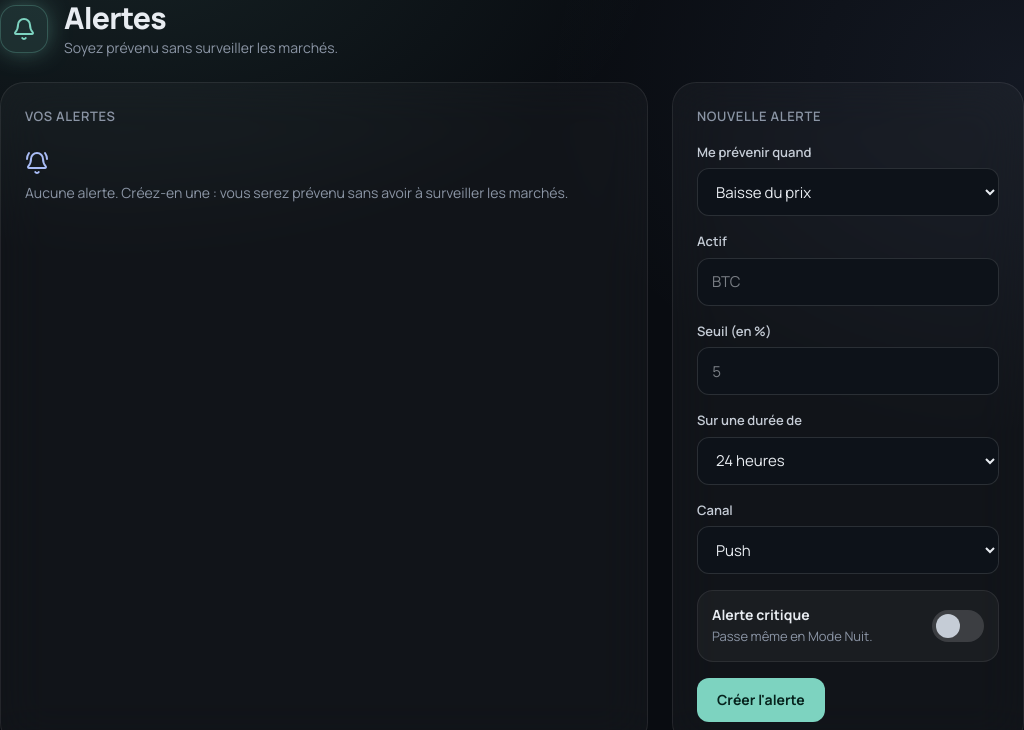
AlertForm : création › champs vides : messages, aucun appel
Expected: the heading "Vos alertes" is shown, [25,107,116,125]
Click the button "Créer l'alerte" at (761, 700), box [697,678,825,722]
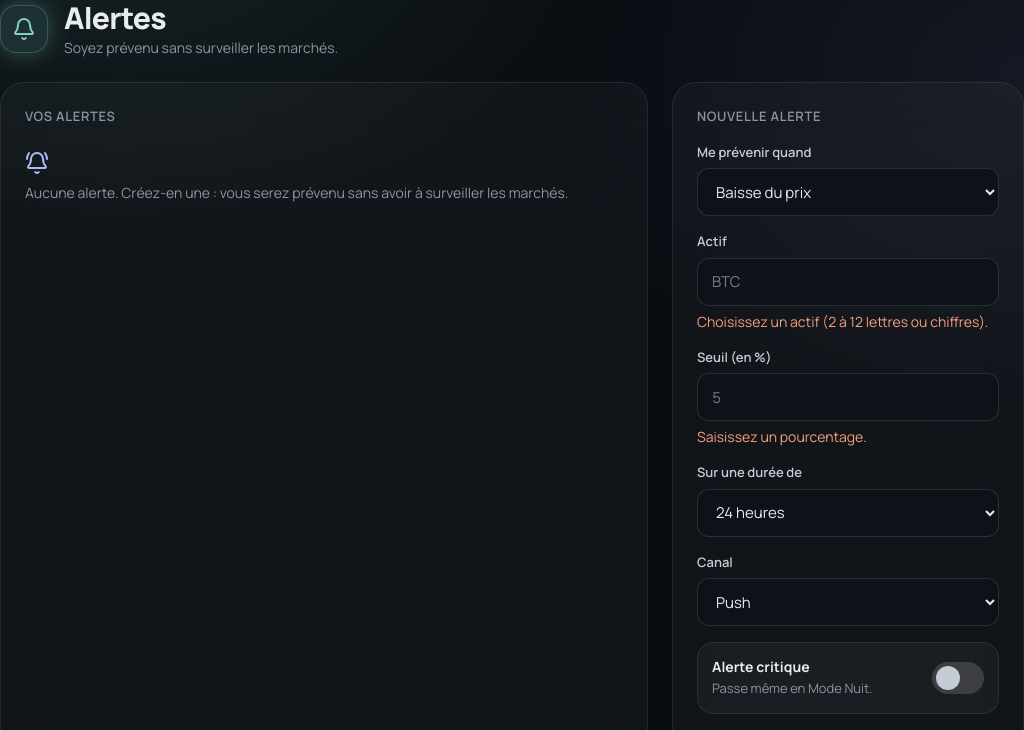
Now the text "Choisissez un actif (2 à 12 lettres ou chiffres)." is shown, box [697,312,999,332]
Now the text "Saisissez un pourcentage." is shown, box [697,427,867,446]
